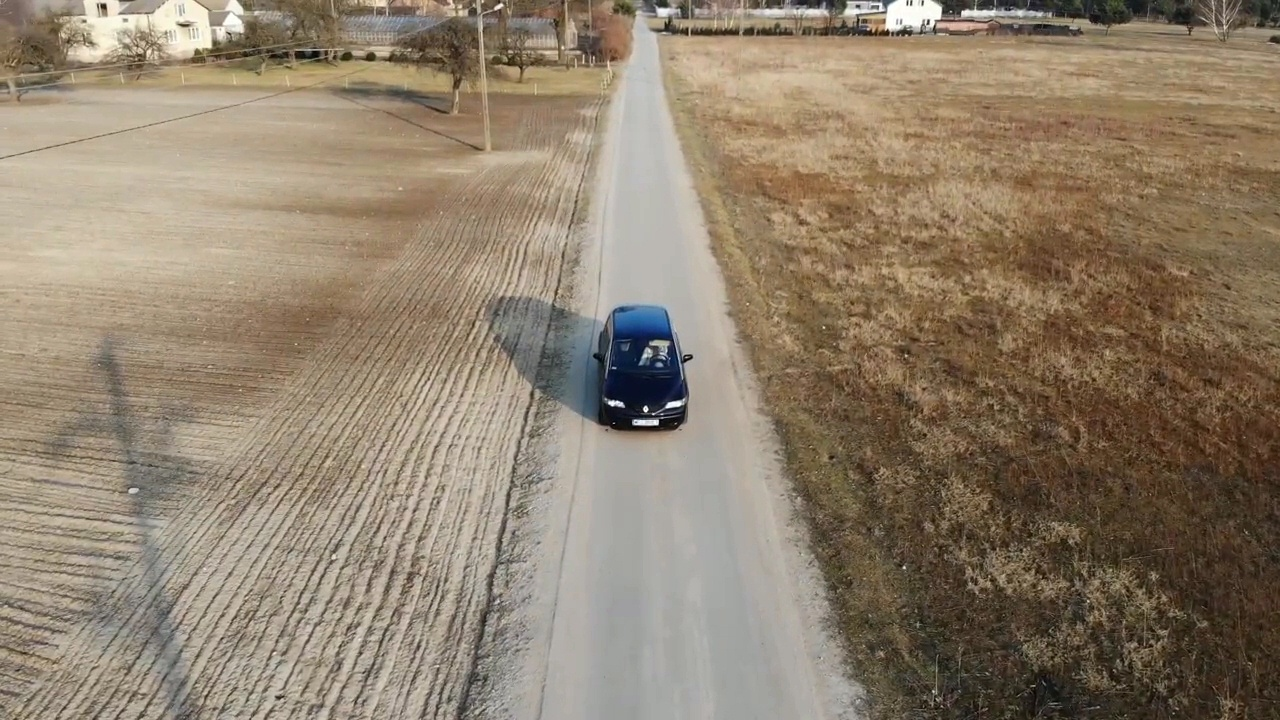araba: (591, 304, 692, 432)
